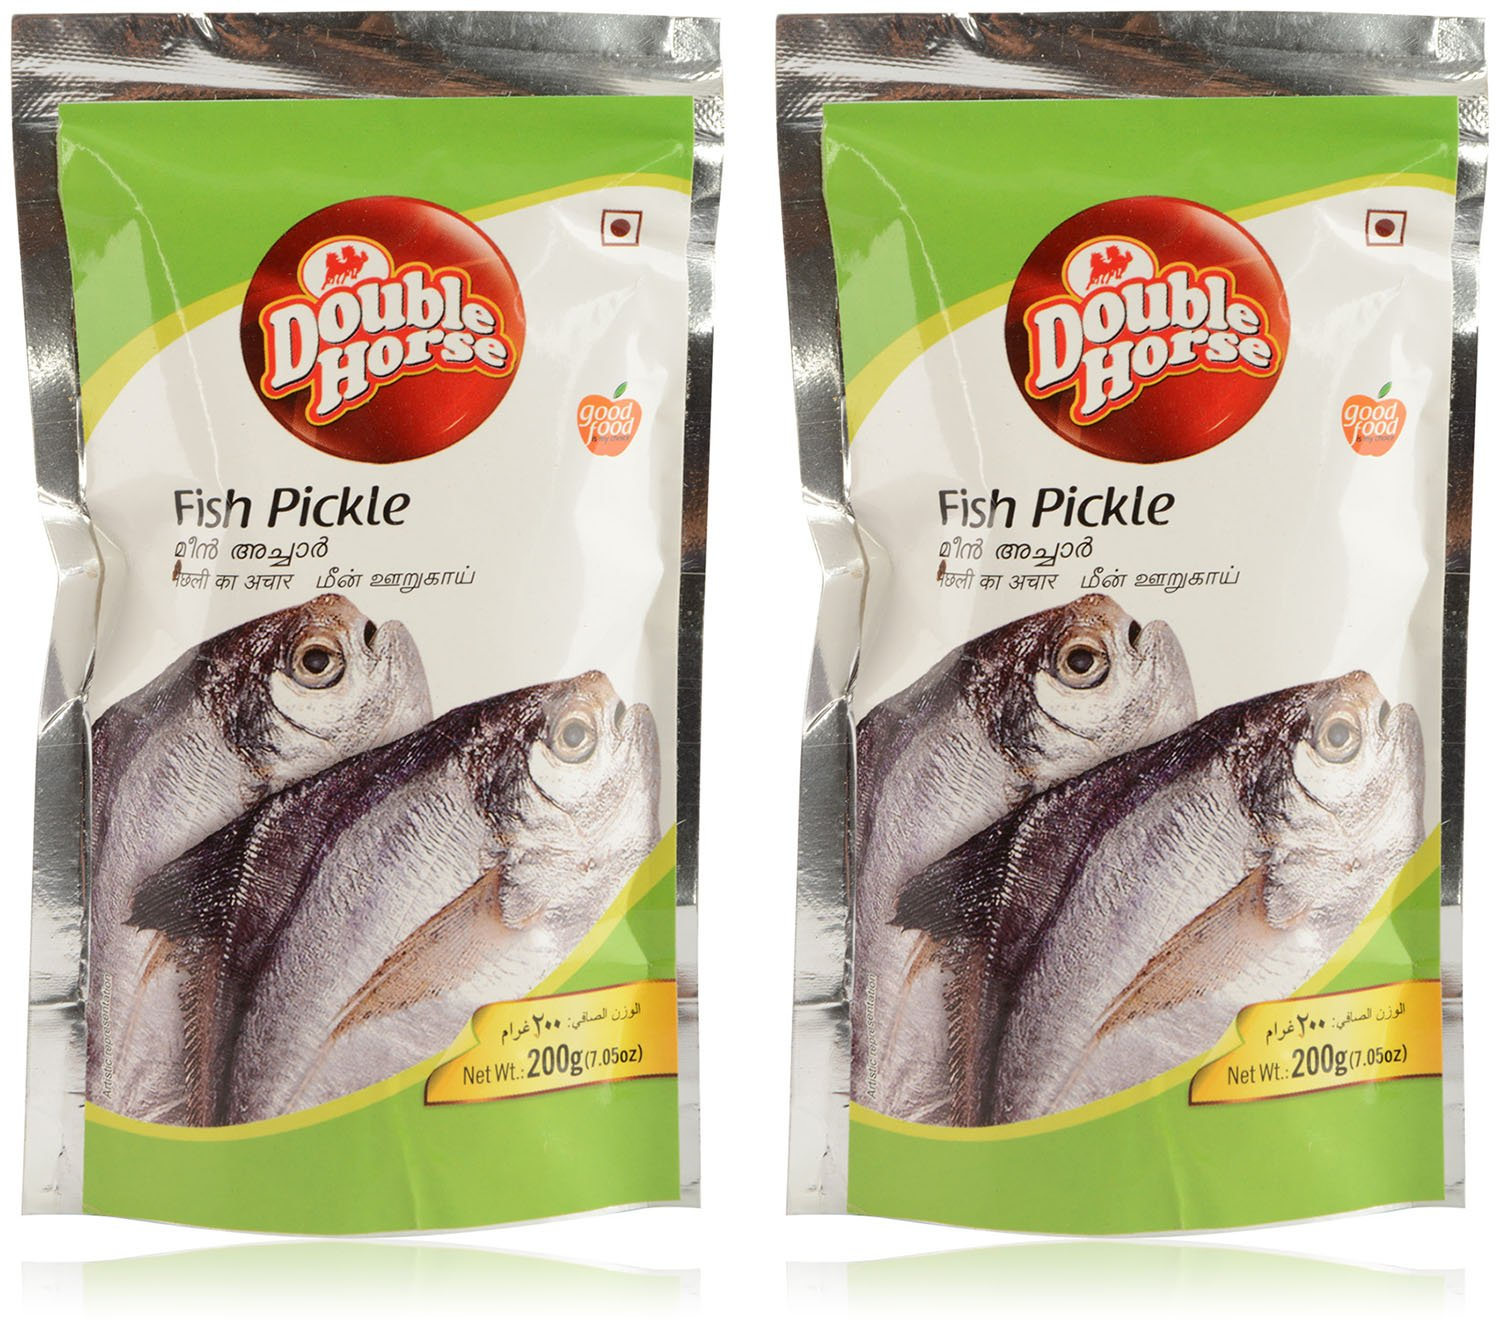nonveg_red: (599, 206, 644, 247), (1364, 206, 1408, 246)
